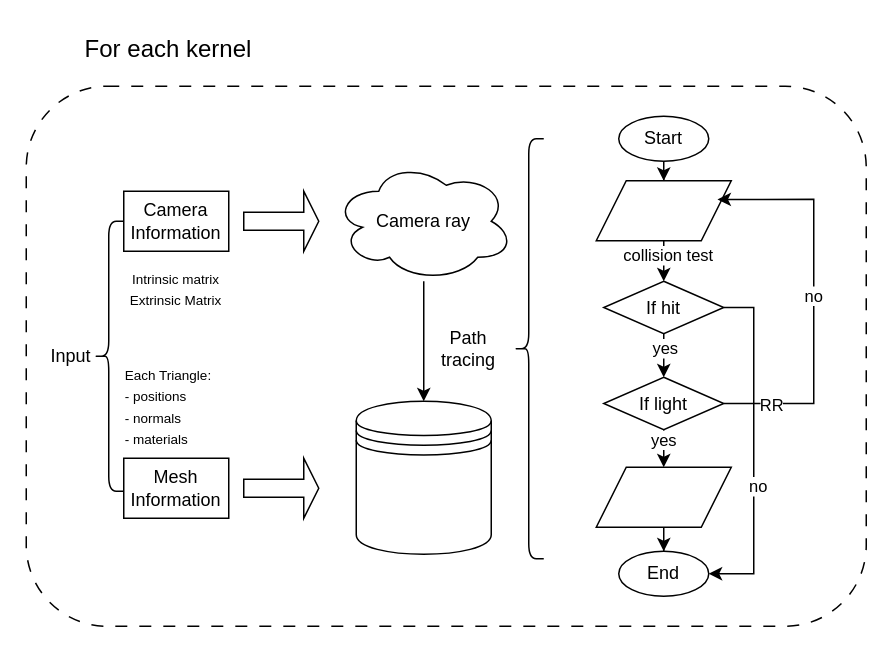
This 893x653 diagram has some shape labels left out. The shapes that lost their labels are listed below. From the top down, each one's centre as x and y in pixels, then its label:
point (663, 210): Generate new ray
point (423, 477): (Cuda) mesh data
point (663, 496): Store color
